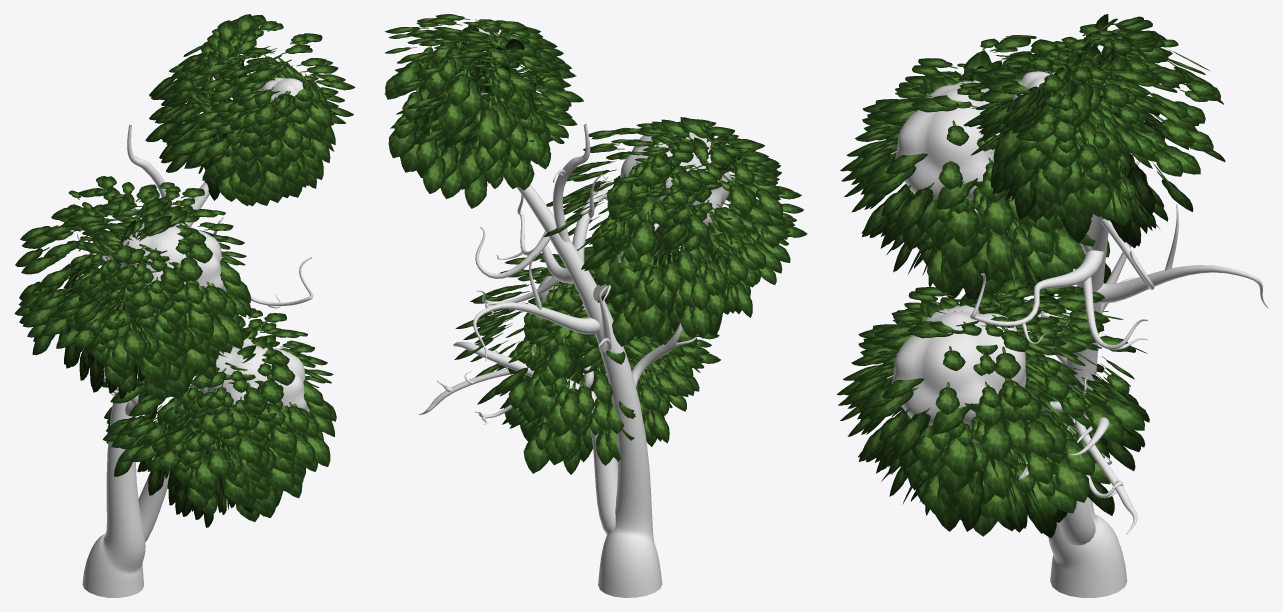
The picture shows the model from 3 angles, left to right: view 1: azimuth 30°, elevation 25°; view 2: azimuth 150°, elevation 25°; view 3: azimuth 270°, elevation 25°; orthographic projection. The views are drawn at different scales.
Parts seen in each view (by area): view 1: leaveless_tree_2, Cube.017, Cube.015, Cube.016, Cube.017|Plane.001|Dupli|586, Cube.015|Plane.001|Dupli|586, Cube.015|Plane.001|Dupli|531, Cube.017|Plane.001|Dupli|565, Cube.017|Plane.001|Dupli|589, Cube.017|Plane.001|Dupli|531, Cube.017|Plane.001|Dupli|605, Cube.015|Plane.001|Dupli|92; view 2: leaveless_tree_2, Cube.015, Cube.016|Plane.001|Dupli|961, Cube.015|Plane.001|Dupli|284, Cube.017|Plane.001|Dupli|284, Cube.017|Plane.001|Dupli|220, Cube.016|Plane.001|Dupli|316, Cube.015|Plane.001|Dupli|220, Cube.016|Plane.001|Dupli|91, Cube.016|Plane.001|Dupli|972, Cube.016|Plane.001|Dupli|284; view 3: leaveless_tree_2, Cube.017, Cube.015, Cube.017|Plane.001|Dupli|368, Cube.015|Plane.001|Dupli|728, Cube.017|Plane.001|Dupli|383, Cube.017|Plane.001|Dupli|337, Cube.015|Plane.001|Dupli|557, Cube.017|Plane.001|Dupli|557, Cube.017|Plane.001|Dupli|430, Cube.015|Plane.001|Dupli|337, Cube.015|Plane.001|Dupli|368 (+18 smaller).
Boxes of the visible parts, x1,y1,x2,y2 form: leaveless_tree_2: (77,124,313,597); Cube.017: (196,338,309,413); Cube.015: (112,222,226,315); Cube.016: (256,77,303,99); Cube.017|Plane.001|Dupli|586: (207,442,231,478); Cube.015|Plane.001|Dupli|586: (123,322,147,358); Cube.015|Plane.001|Dupli|531: (215,312,243,349); Cube.017|Plane.001|Dupli|565: (237,430,262,464); Cube.017|Plane.001|Dupli|589: (195,449,219,490); Cube.017|Plane.001|Dupli|531: (302,433,330,466); Cube.017|Plane.001|Dupli|605: (293,432,315,465); Cube.015|Plane.001|Dupli|92: (22,302,63,327); leaveless_tree_2: (419,93,697,597); Cube.015: (620,133,730,226); Cube.016|Plane.001|Dupli|961: (475,97,501,150); Cube.015|Plane.001|Dupli|284: (631,211,656,256); Cube.017|Plane.001|Dupli|284: (547,334,573,378); Cube.017|Plane.001|Dupli|220: (523,416,550,473); Cube.016|Plane.001|Dupli|316: (422,147,445,193); Cube.015|Plane.001|Dupli|220: (612,295,635,346); Cube.016|Plane.001|Dupli|91: (459,139,482,184); Cube.016|Plane.001|Dupli|972: (447,66,470,105); Cube.016|Plane.001|Dupli|284: (388,120,418,157); leaveless_tree_2: (970,115,1268,597); Cube.017: (891,305,1025,442); Cube.015: (895,80,1006,208); Cube.017|Plane.001|Dupli|368: (1051,456,1089,502); Cube.015|Plane.001|Dupli|728: (986,227,1016,274); Cube.017|Plane.001|Dupli|383: (943,437,977,477); Cube.017|Plane.001|Dupli|337: (981,419,1012,461); Cube.015|Plane.001|Dupli|557: (897,182,934,231); Cube.017|Plane.001|Dupli|557: (893,407,930,456); Cube.017|Plane.001|Dupli|430: (1082,394,1123,442); Cube.015|Plane.001|Dupli|337: (983,195,1014,235); Cube.015|Plane.001|Dupli|368: (1051,226,1085,269).
Size of the model in its own units: 378 by 538 by 327.
